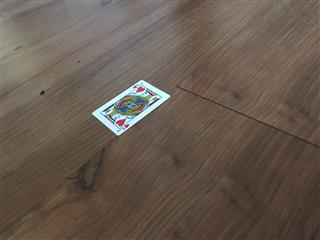JackOfHearts: (91, 78, 171, 136)
